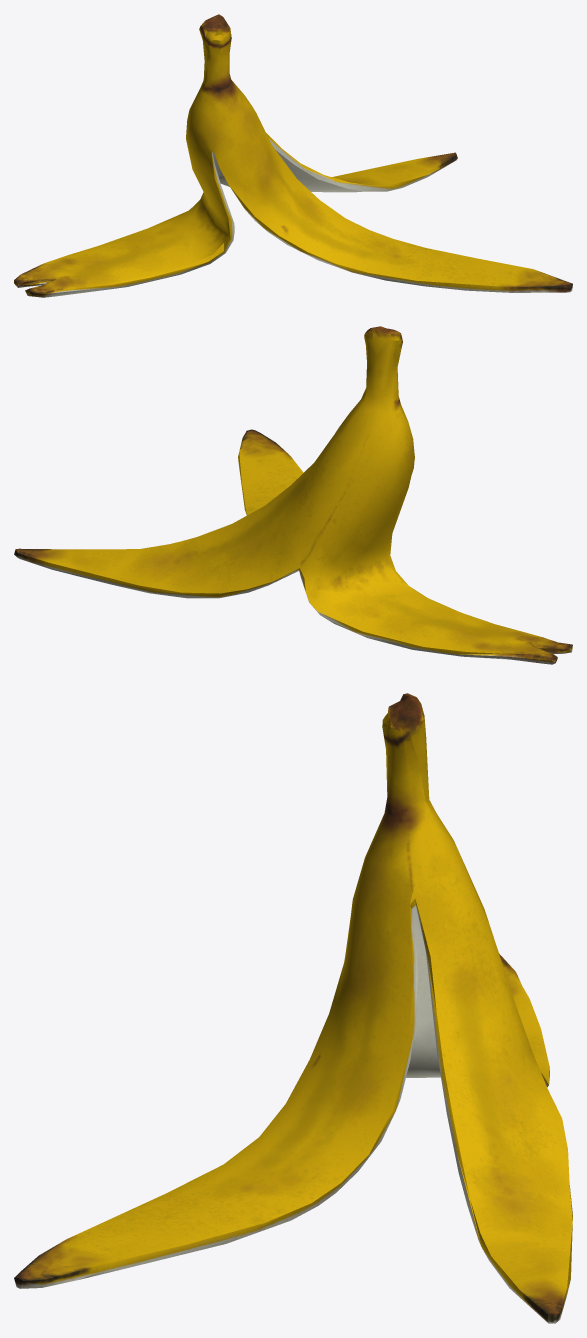
The model's file is banana.fbx.
3 views of the same model, one above another, from view 1: azimuth 30°, elevation 25°; view 2: azimuth 150°, elevation 25°; view 3: azimuth 270°, elevation 25° (orthographic). The views are drawn at different scales.
Visible parts, largest first — view 1: node_id27; view 2: node_id27; view 3: node_id27.
Boxes of the visible parts, x1,y1,x2,y2 form: node_id27: (14, 14, 572, 297); node_id27: (14, 326, 572, 664); node_id27: (14, 693, 572, 1323).
Bounding box in the file's own units: 122 × 77.76 × 62.36.
